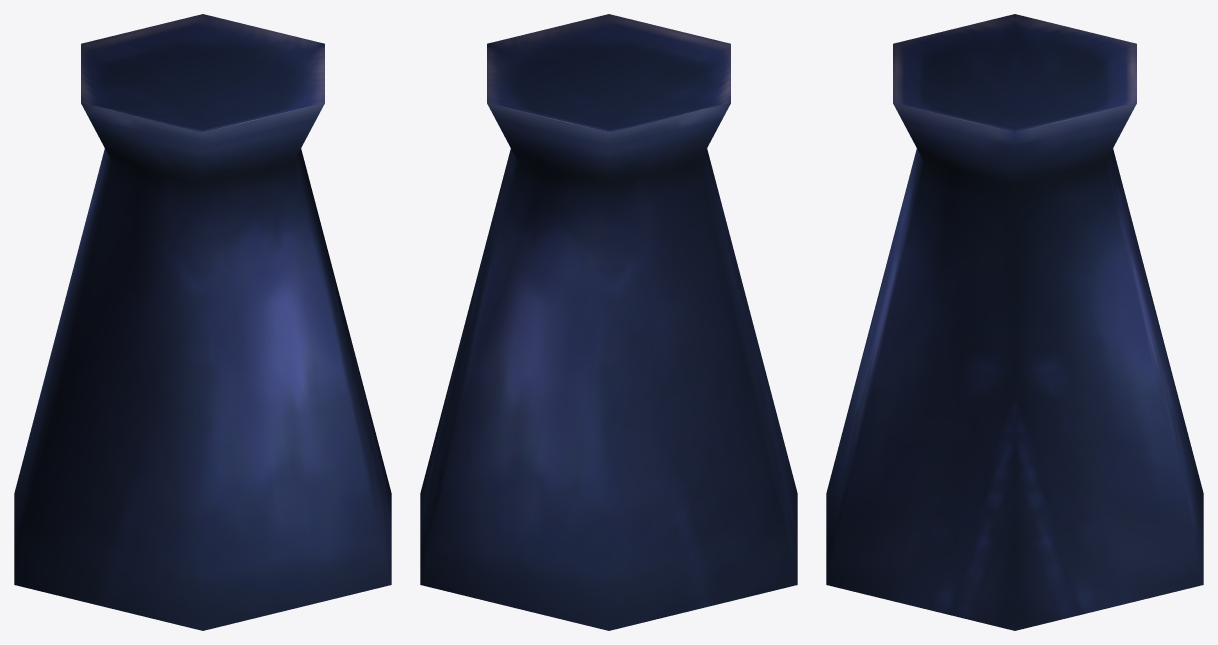
File: F_pingzi002.fbx
3 views of the same model, side by side, from view 1: azimuth 30°, elevation 25°; view 2: azimuth 150°, elevation 25°; view 3: azimuth 270°, elevation 25° (orthographic).
Parts seen in each view (by area): view 1: F_pingzi002; view 2: F_pingzi002; view 3: F_pingzi002.
Boxes of the visible parts, left/top/right/bottom form: F_pingzi002: left=14, top=14, right=391, bottom=630; F_pingzi002: left=420, top=14, right=797, bottom=630; F_pingzi002: left=826, top=14, right=1203, bottom=630.
Bounding box in the file's own units: 22.06 × 26.02 × 19.1.
